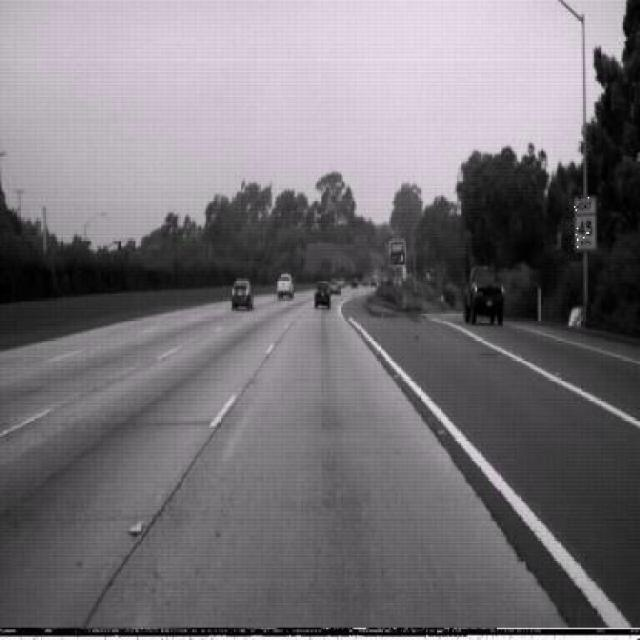rampSpeedAdvisory45: (574, 195, 596, 251)
